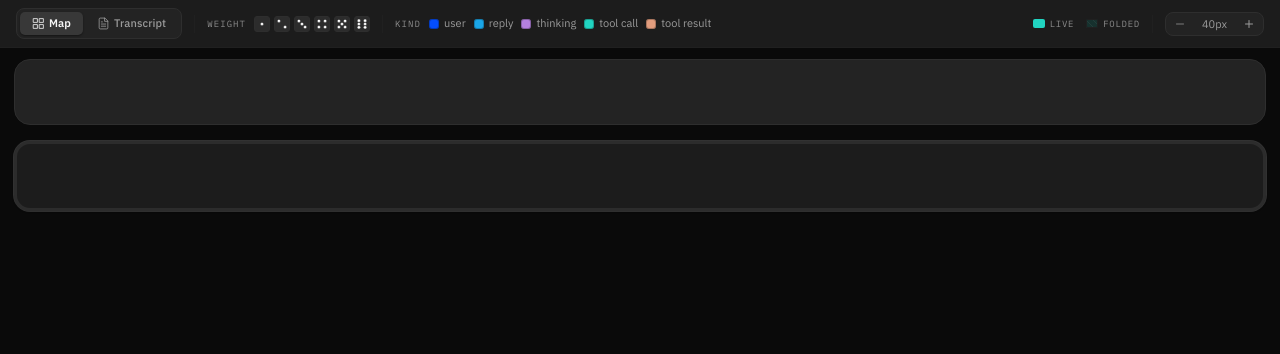
Test: ContextMap Pre-Group transcript › omits transcript pre-group UI for empty membership
What coordinates should you click on to do the following:
click the button "Transcript"
I would click on:
 (132, 24)
Its box is [85,12,178,35].
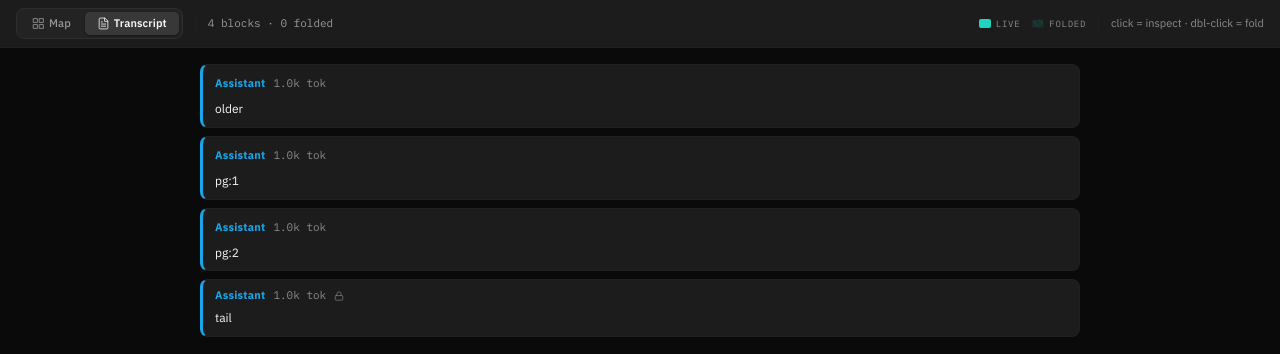
Now the element named "Assistant older" is shown, box [200,64,1080,128]
Now the element named "Assistant tail" is shown, box [200,279,1080,337]
